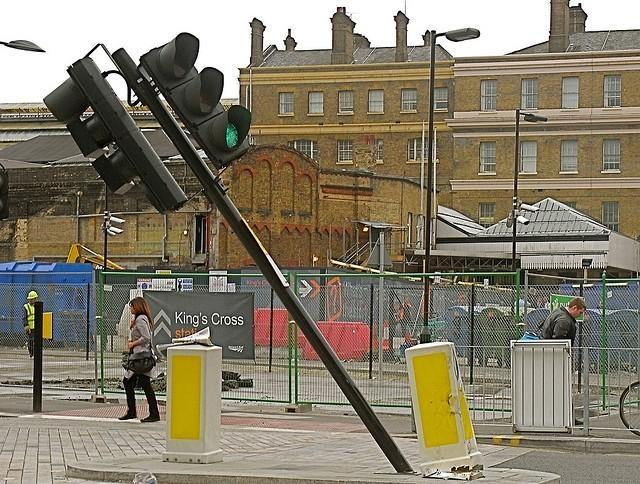bicycle: (619, 380, 640, 437)
